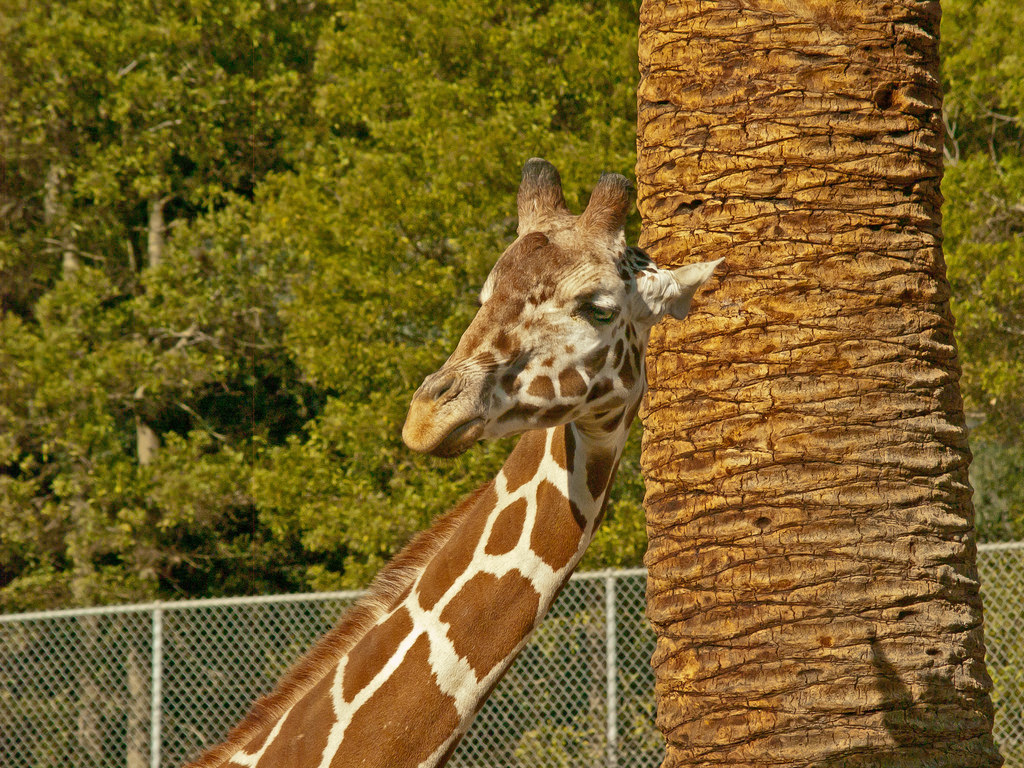giraffe: (255, 149, 719, 738)
